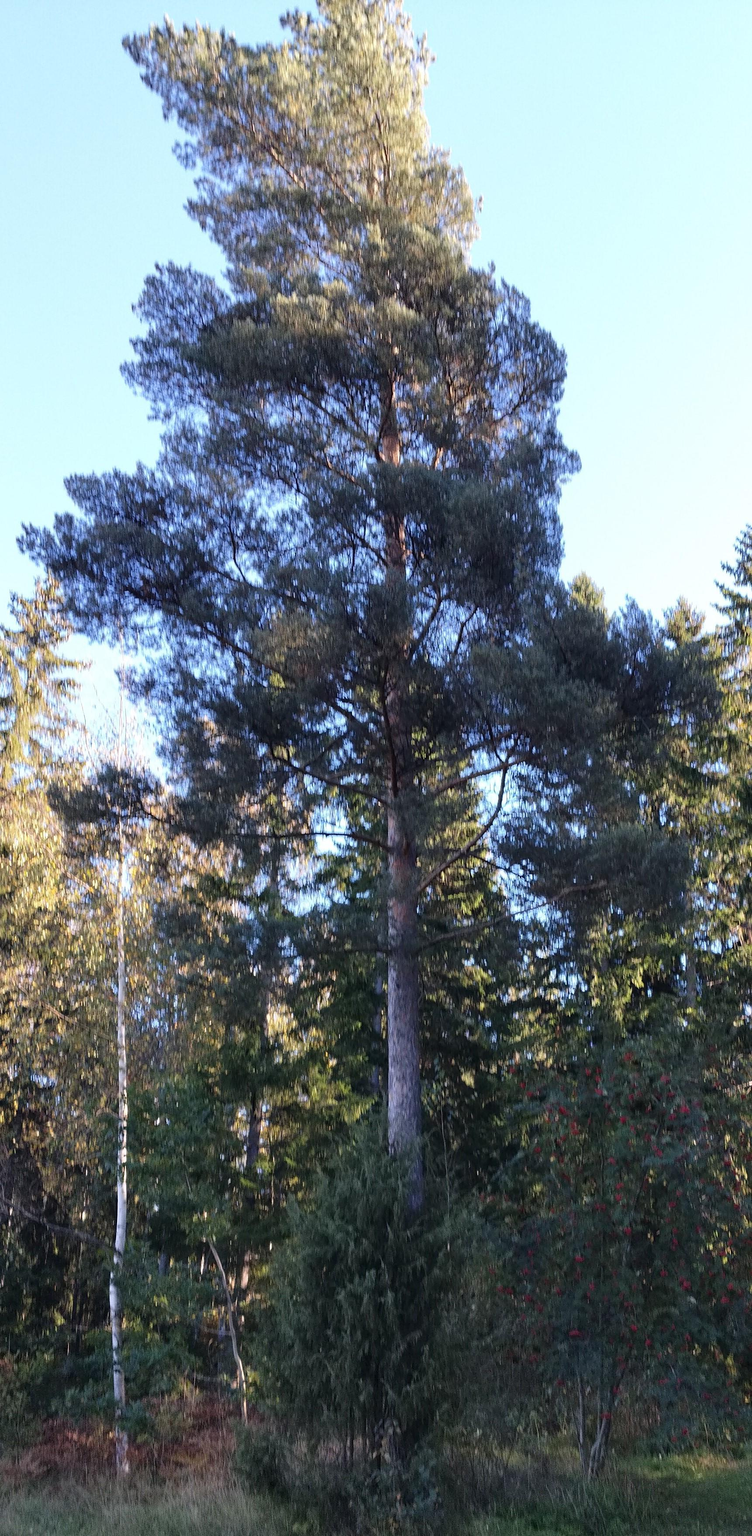Pine: (145, 1, 613, 1240)
